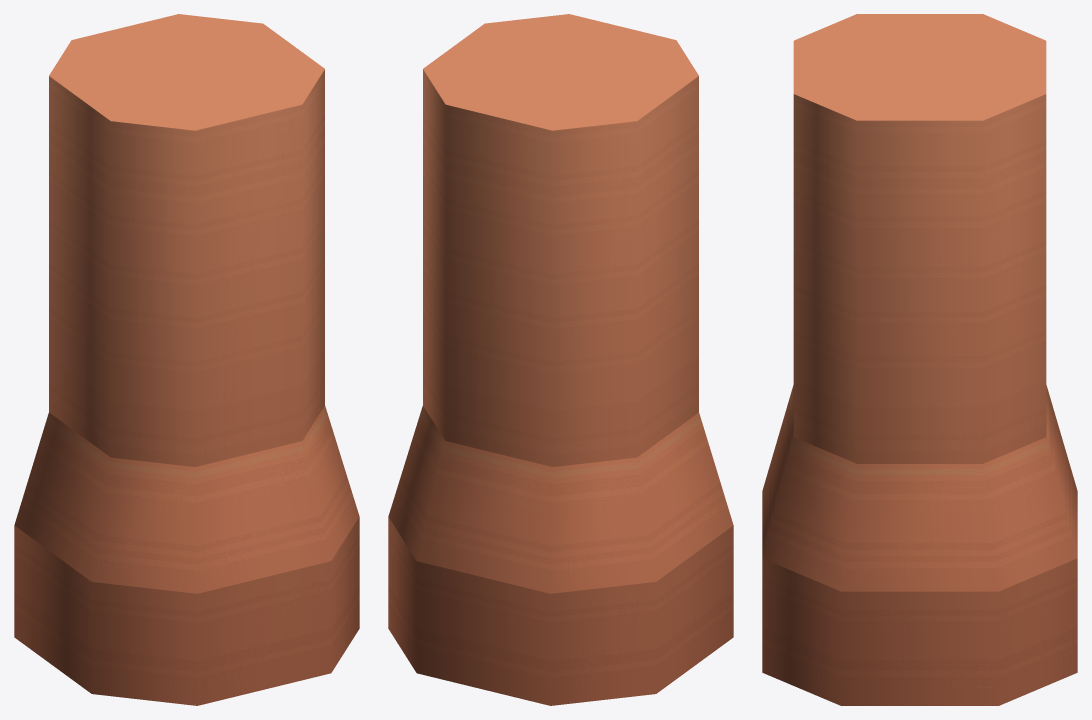
Rendered from support-bottom.glb.
3 views of the same model, side by side, from view 1: azimuth 30°, elevation 25°; view 2: azimuth 150°, elevation 25°; view 3: azimuth 270°, elevation 25° (orthographic). The views are drawn at different scales.
Visible parts, largest first — view 1: support-bottom; view 2: support-bottom; view 3: support-bottom.
Boxes of the visible parts, x1,y1,x2,y2 form: support-bottom: [14, 14, 359, 705]; support-bottom: [388, 14, 733, 705]; support-bottom: [762, 14, 1077, 705].
Bounding box in the file's own units: 0.5 × 1 × 0.5.
Materials: 1 (1 with a texture image).
